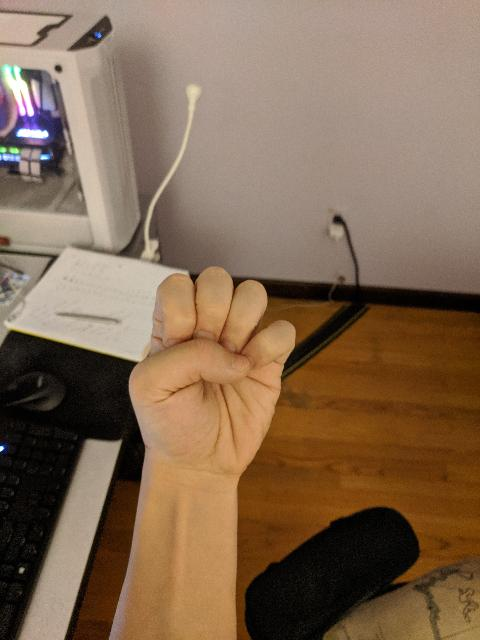E: (125, 263, 300, 485)
